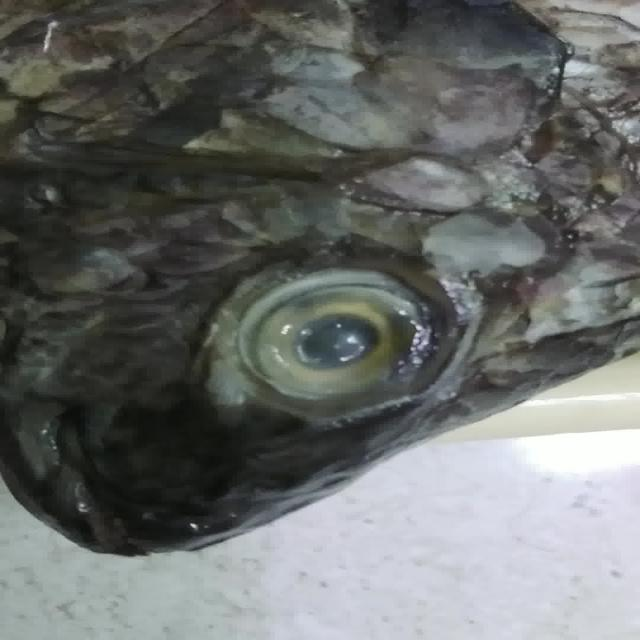Non-Fresh: (209, 251, 472, 423)
